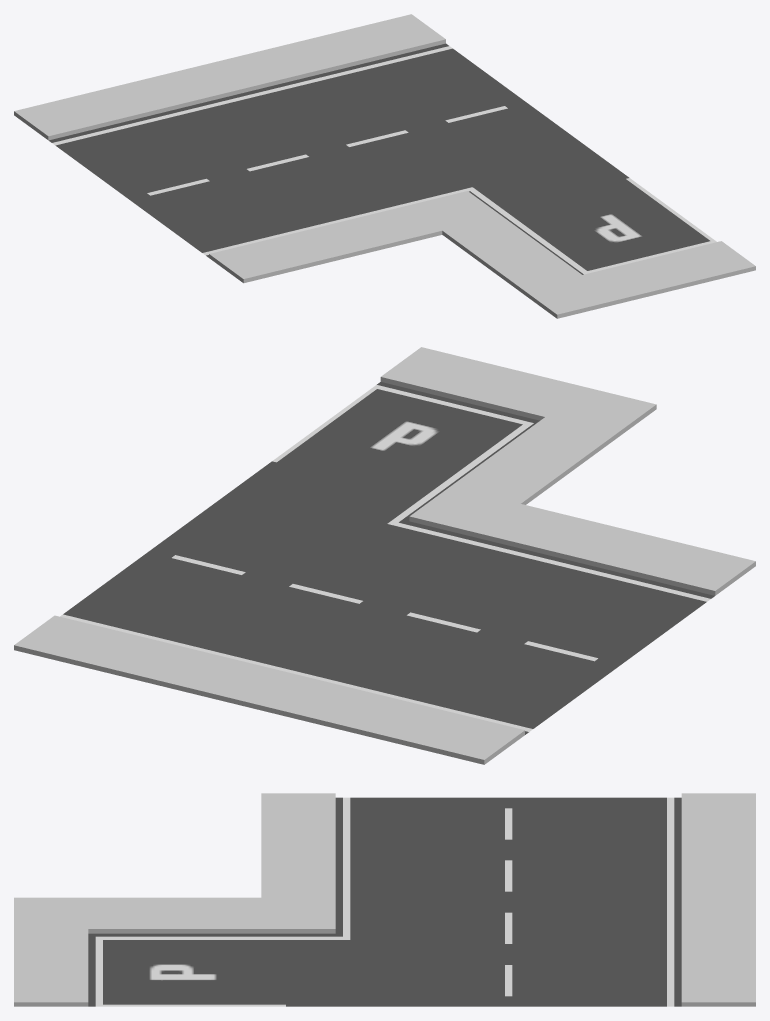
Rendered from SPW_Urban_Road 2way_Side Parking_03.gltf.
The picture shows the model from 3 angles, top to bottom: view 1: azimuth 30°, elevation 25°; view 2: azimuth 150°, elevation 25°; view 3: azimuth 270°, elevation 25°; orthographic projection. The views are drawn at different scales.
Parts seen in each view (by area): view 1: SPW_Urban_Road_2way_Side_Parking_03; view 2: SPW_Urban_Road_2way_Side_Parking_03; view 3: SPW_Urban_Road_2way_Side_Parking_03.
Boxes of the visible parts, x1=… form: SPW_Urban_Road_2way_Side_Parking_03: x1=14, y1=14, x2=755, y2=318; SPW_Urban_Road_2way_Side_Parking_03: x1=14, y1=347, x2=755, y2=764; SPW_Urban_Road_2way_Side_Parking_03: x1=14, y1=793, x2=755, y2=1006.
Size of the model in its own units: 787 by 7.87 by 1181.
Materials: 1 (1 with a texture image).
